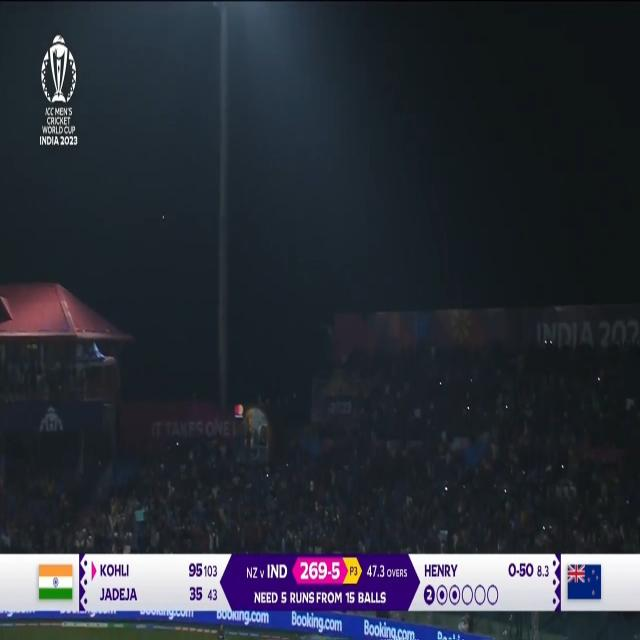ball: (160, 210, 167, 225)
